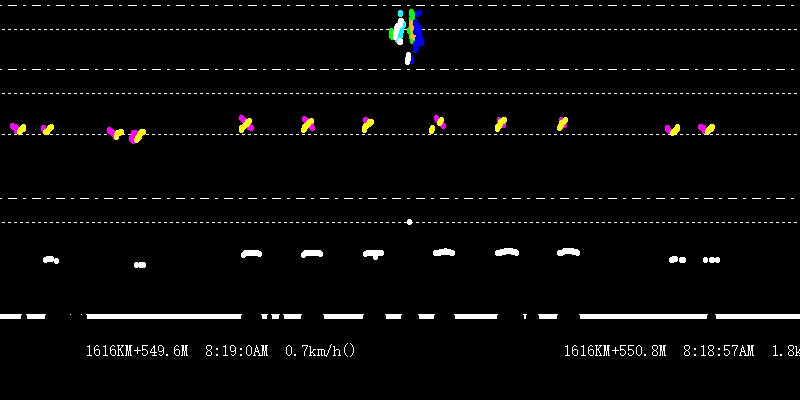J: (387, 4, 426, 65)
